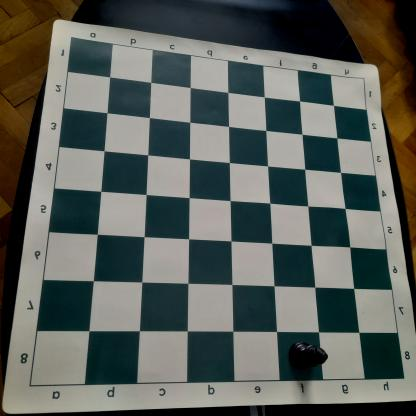black-bishop: (286, 340, 329, 370)
